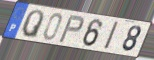0: (42, 12, 63, 42)
6: (82, 18, 104, 48)
8: (121, 25, 142, 53)
I: (103, 20, 121, 51)
P: (57, 15, 85, 44)
Q: (20, 9, 45, 40)
